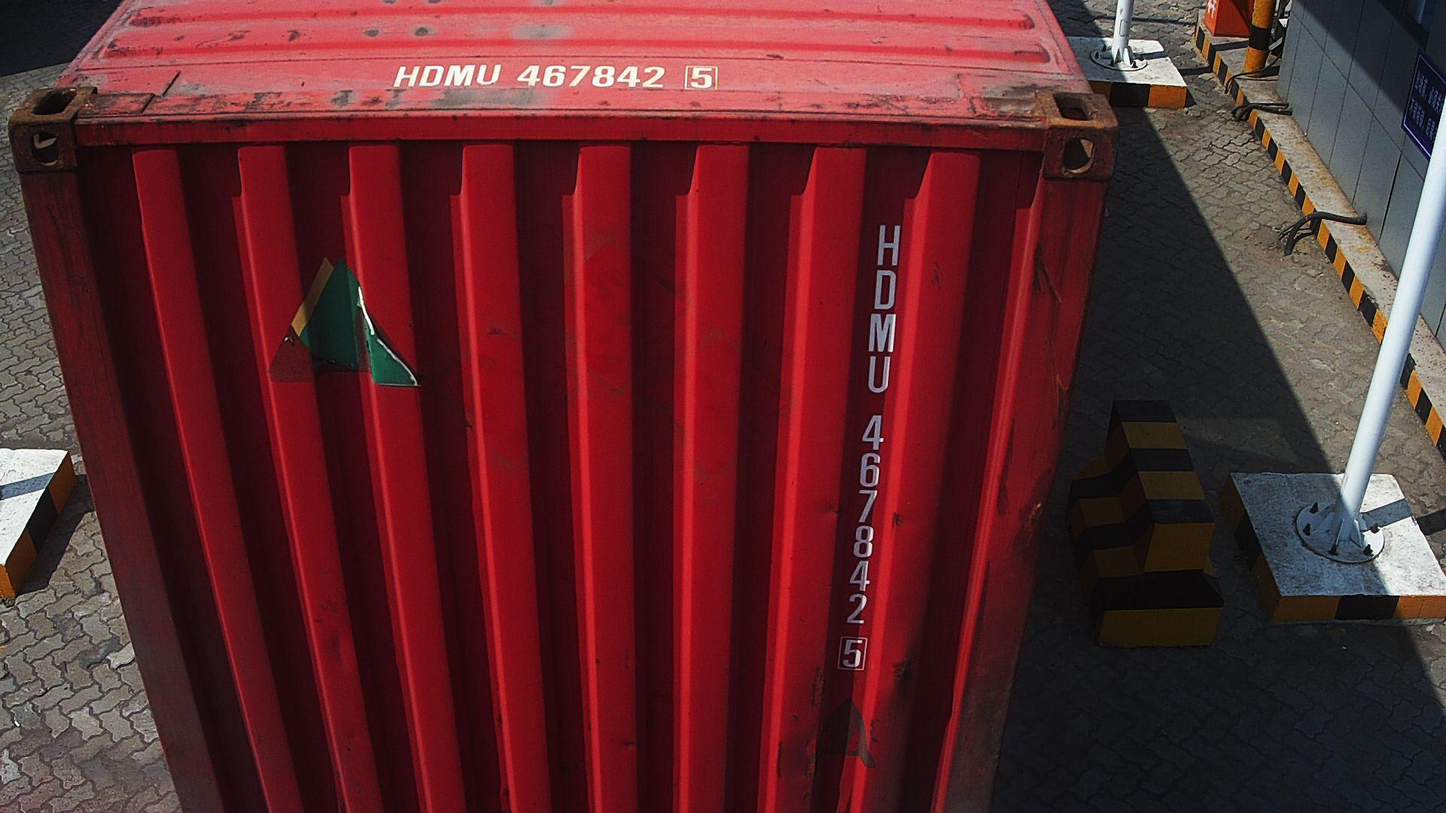container-numbers: (833, 219, 906, 676), (385, 60, 725, 92)
